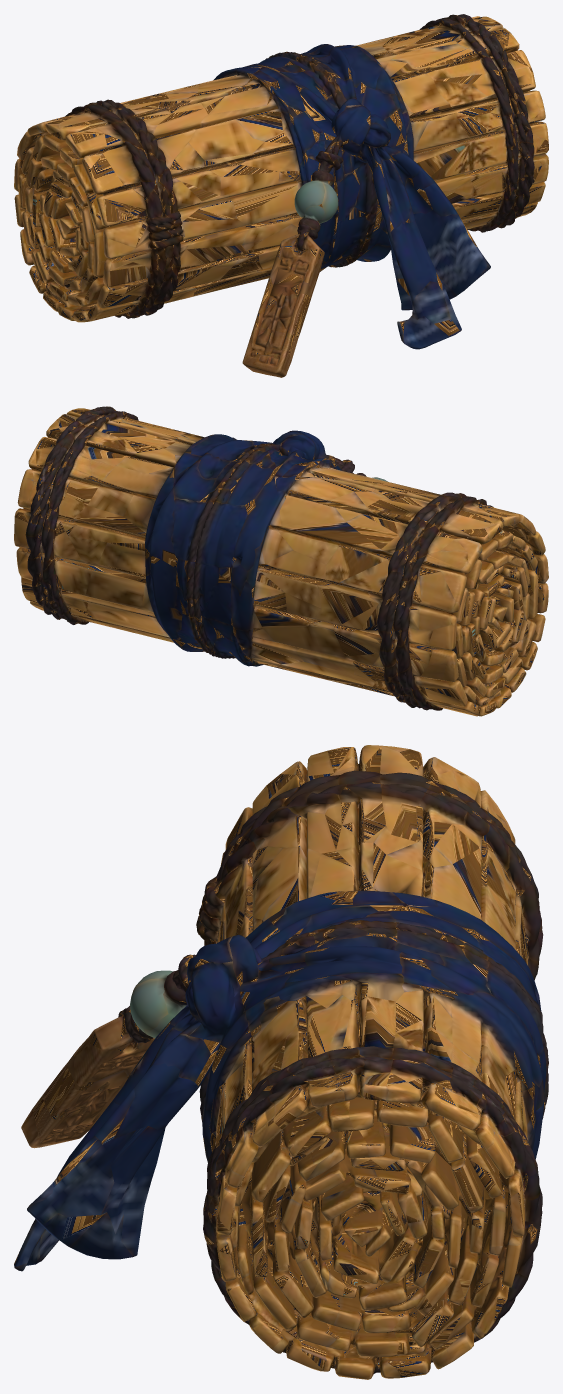
Rendered from knowledge-keeper.glb.
3 views of the same model, one above another, from view 1: azimuth 30°, elevation 25°; view 2: azimuth 150°, elevation 25°; view 3: azimuth 270°, elevation 25° (orthographic). The views are drawn at different scales.
Size of the model in its own units: 1.9 by 0.8746 by 1.26.
1 material, 1 textured.
